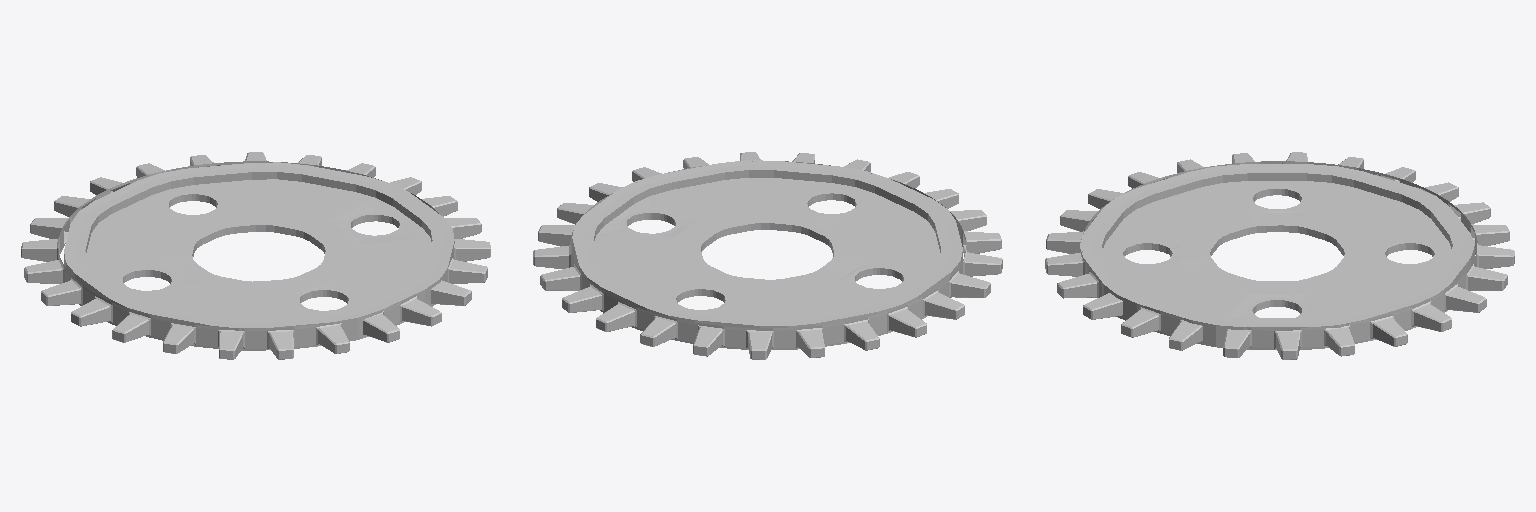
The model's file is GEARCIRCLE.obj.
3 views of the same model, side by side, from view 1: azimuth 30°, elevation 25°; view 2: azimuth 150°, elevation 25°; view 3: azimuth 270°, elevation 25° (orthographic).
Visible parts, largest first — view 1: GEARCIRCLE; view 2: GEARCIRCLE; view 3: GEARCIRCLE.
Boxes of the visible parts, <box> form: GEARCIRCLE: <box>21,152,490,359</box>; GEARCIRCLE: <box>533,152,1002,359</box>; GEARCIRCLE: <box>1045,152,1514,359</box>.
Size of the model in its own units: 6.38 by 0.3339 by 6.37.